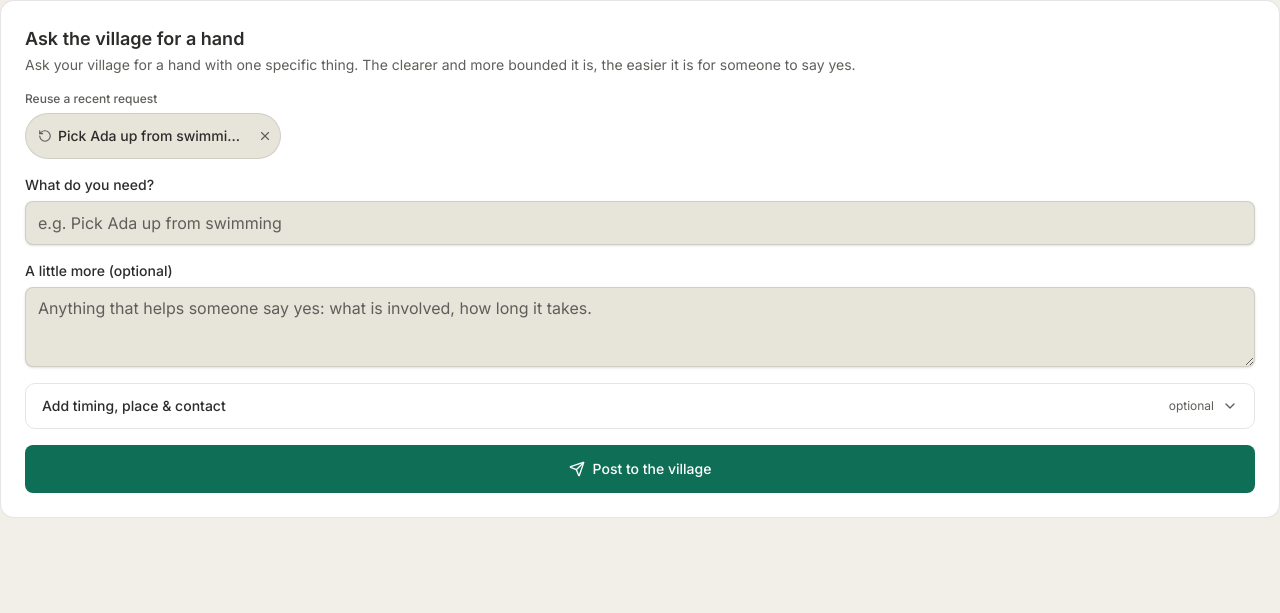
Test: PostNeedForm › CONSENT gate: a 409 no-consent shows the governed consent line and a record-consent action
The width and height of the screenshot is (1280, 613).
Type "Pick Ada up" into the field labelled "What do you need?" at x=640, y=223, box [25, 201, 1255, 245]
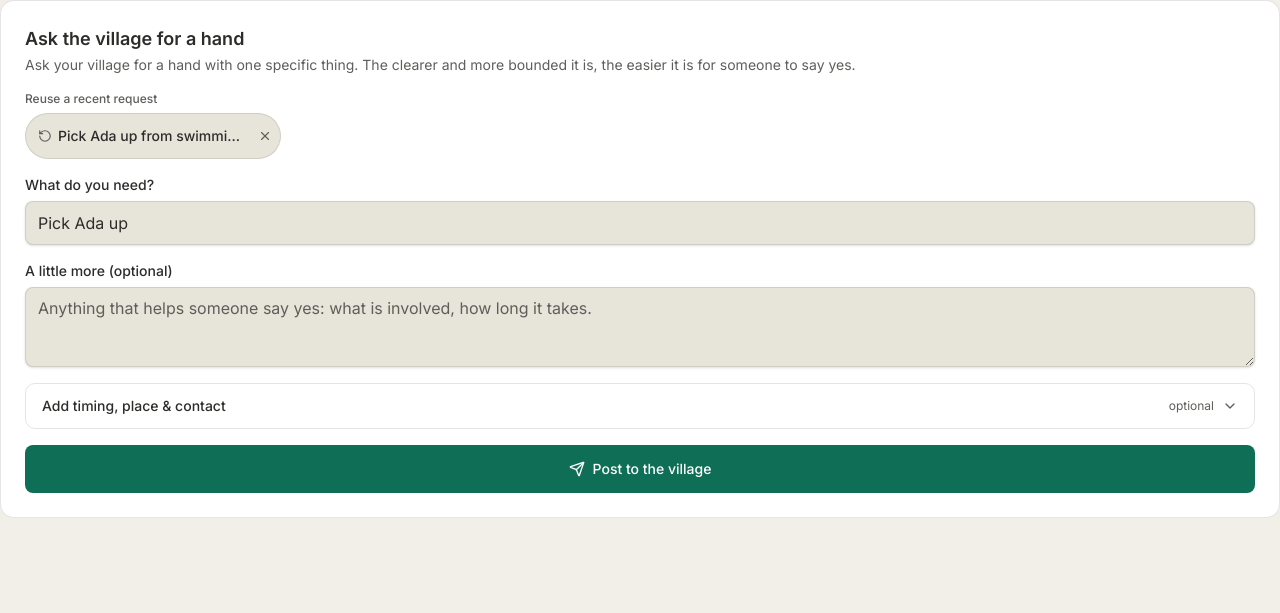
Click the button "Post to the village" at x=640, y=469, box [25, 445, 1255, 493]
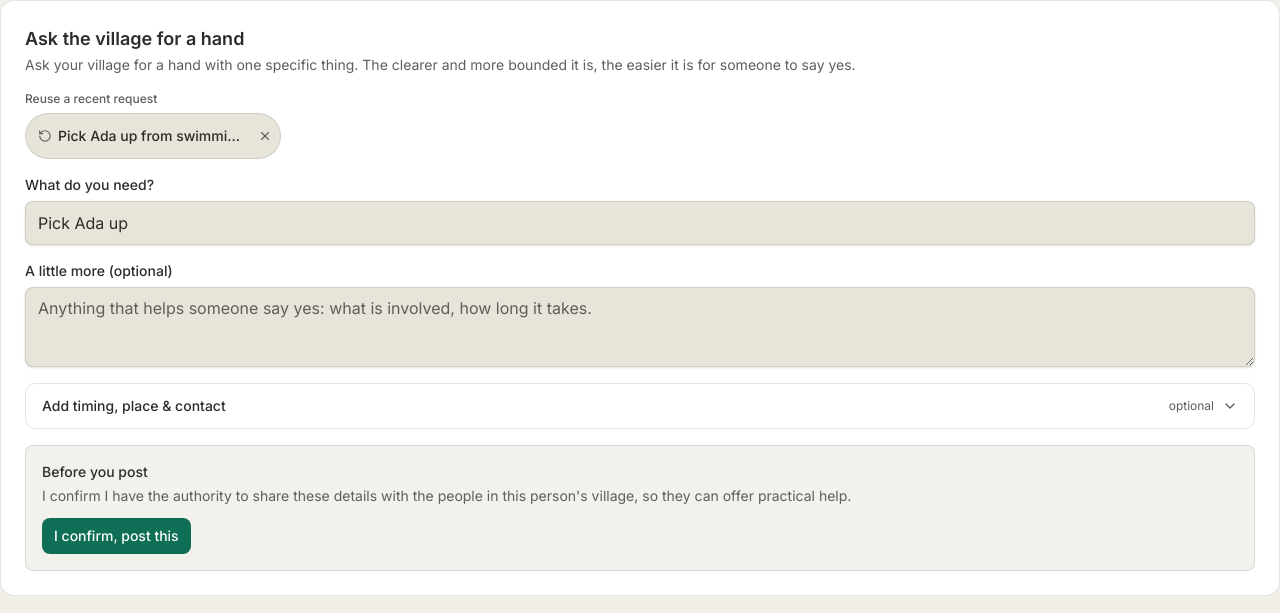
Check: the text "I confirm I have the authority to share" is shown, box [42, 487, 851, 504]
